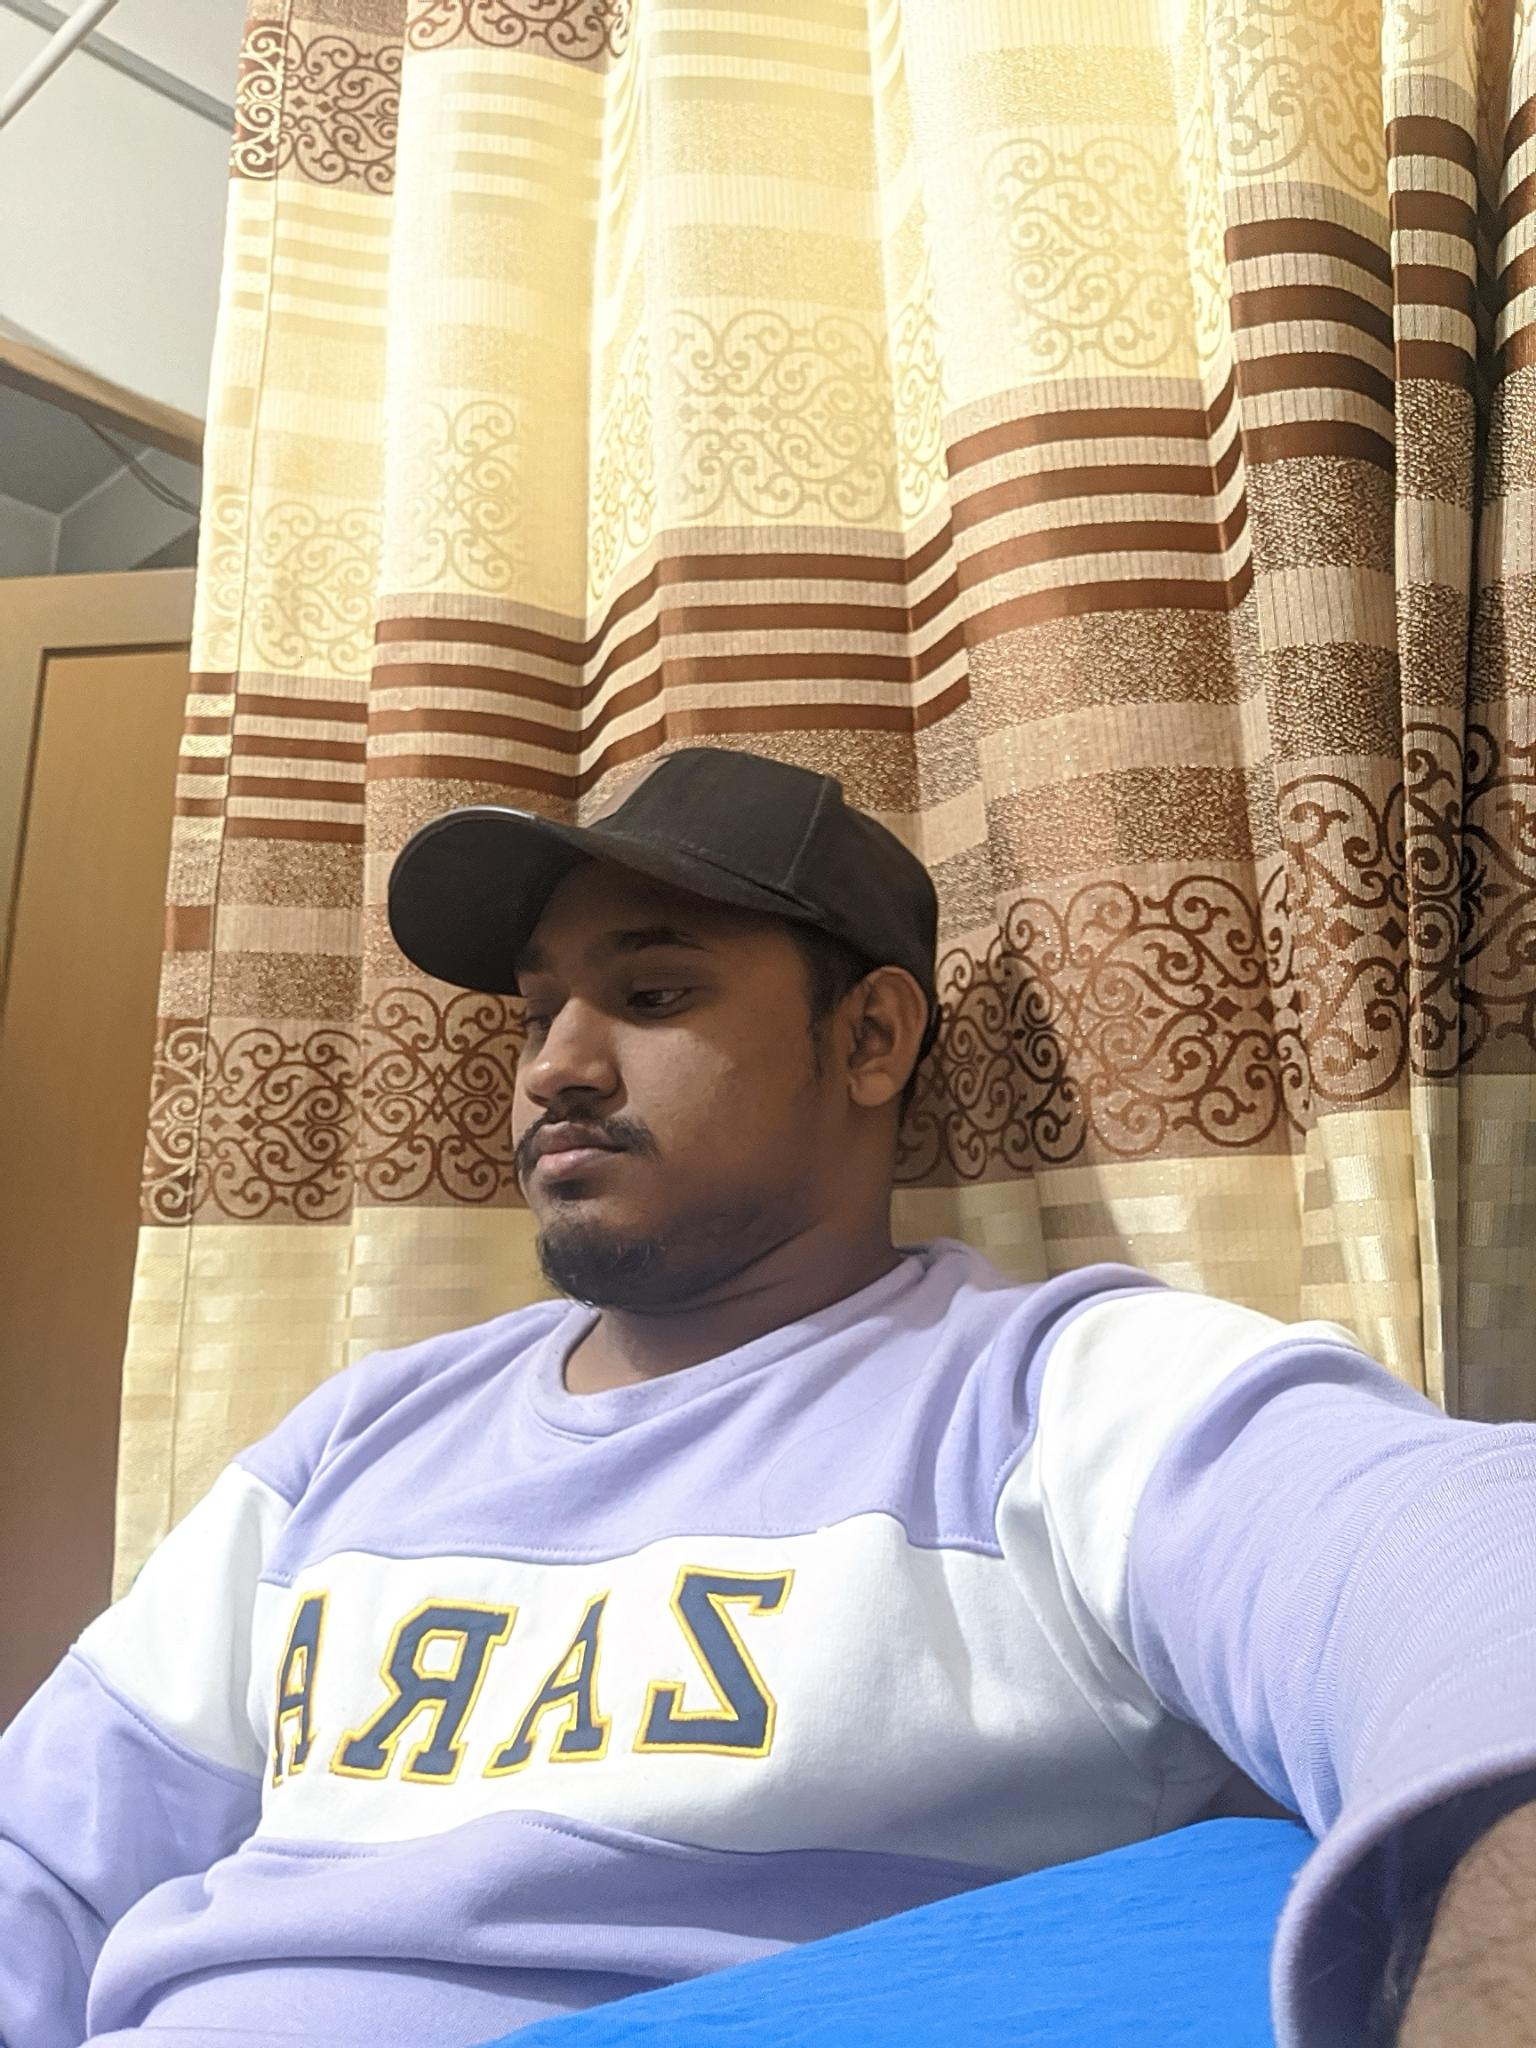Neutral: (445, 911, 786, 1266)
